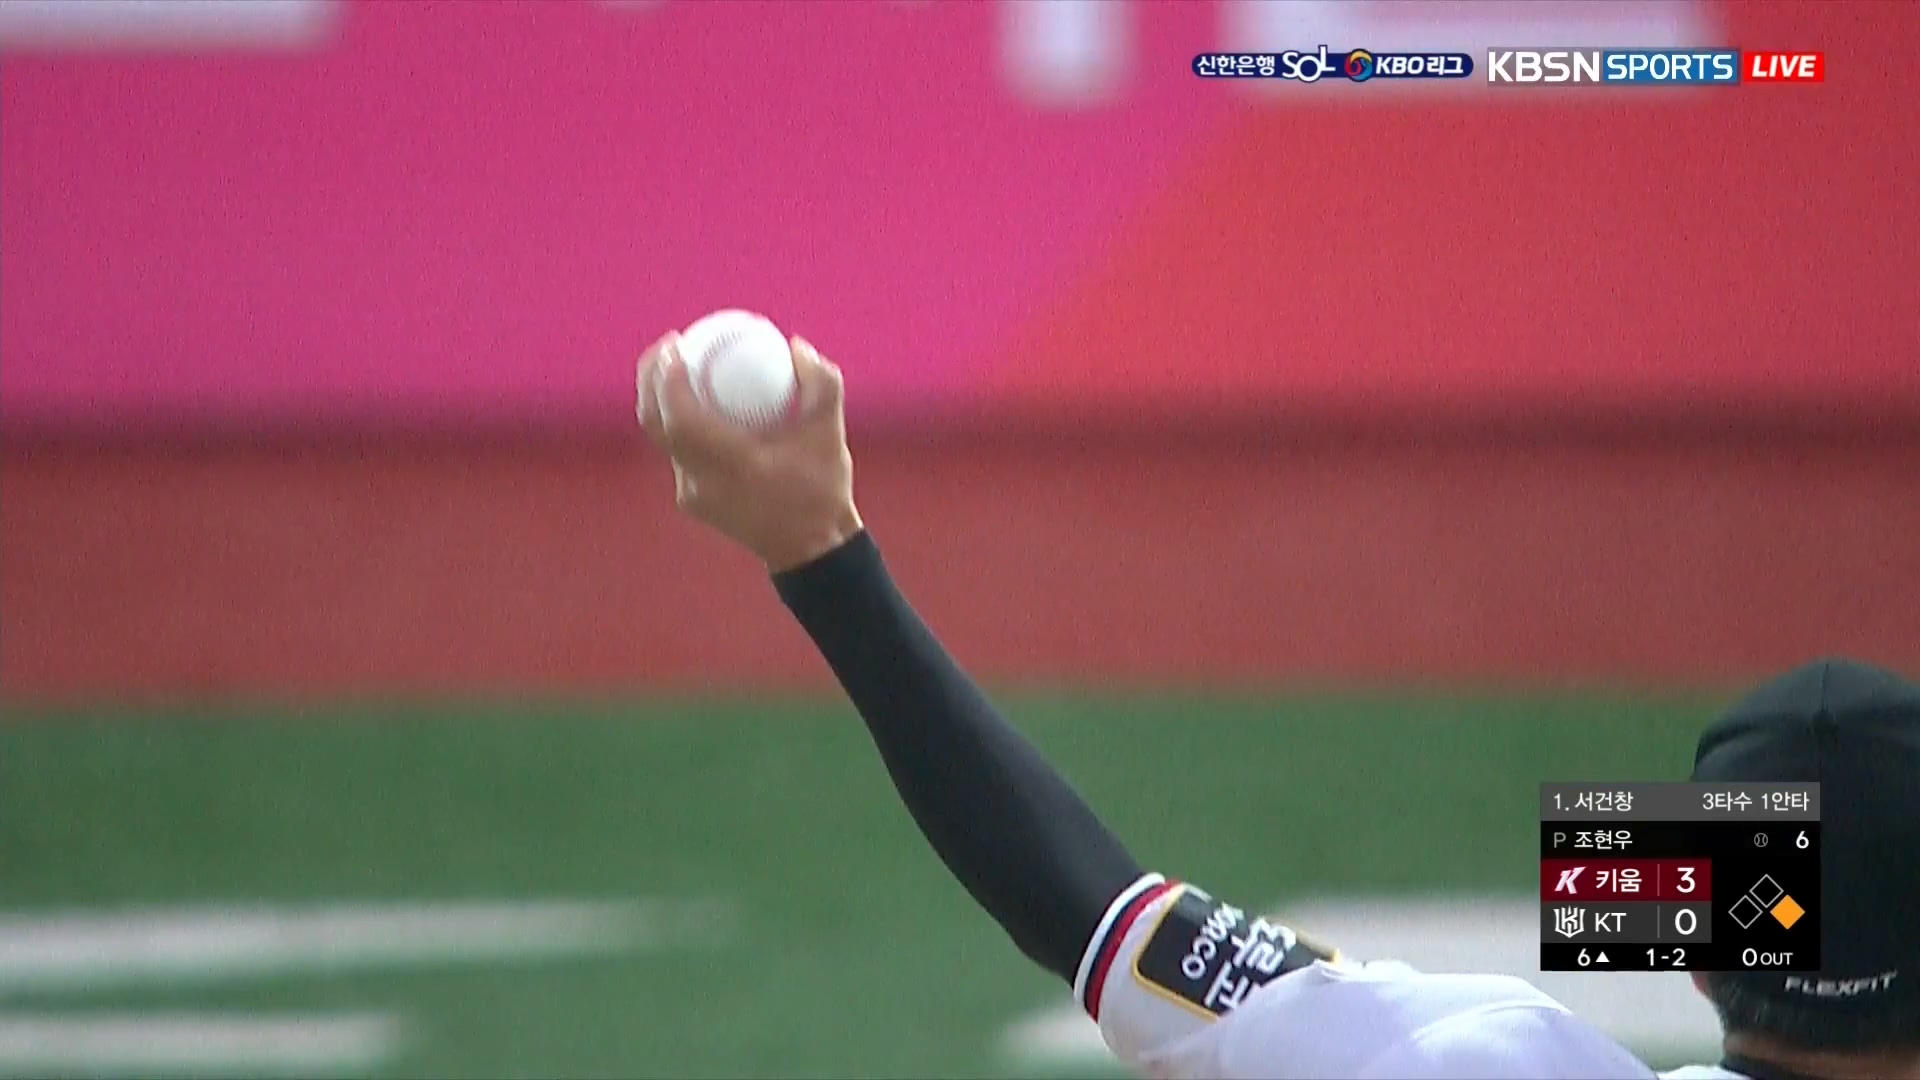zoomin_hand: (626, 301, 1139, 1005)
